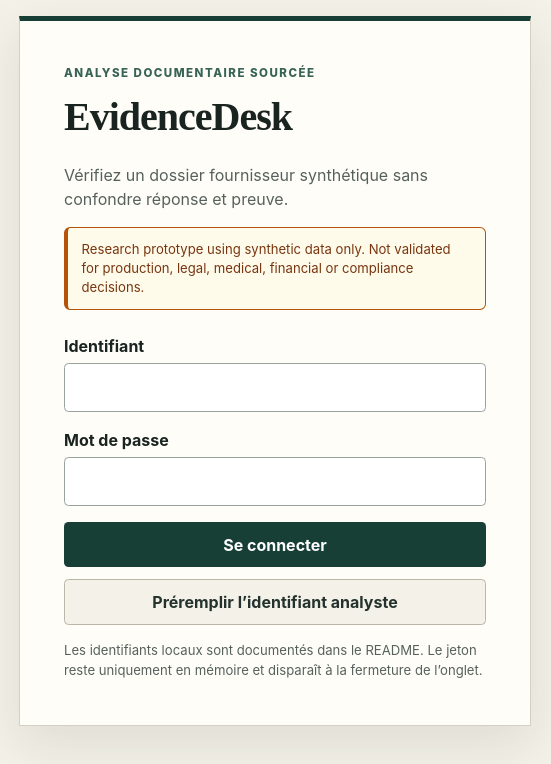
Test: EvidenceDesk REST flow › shows the research warning and never prefills a browser password
Check: the text "Research prototype using synthetic data only. Not validated for production, legal, medical, financial or compliance deci" is shown, box left=82, top=241, right=451, bottom=295
Click the button "Préremplir l’identifiant analyste". click: (275, 602)
box: left=64, top=580, right=486, bottom=625
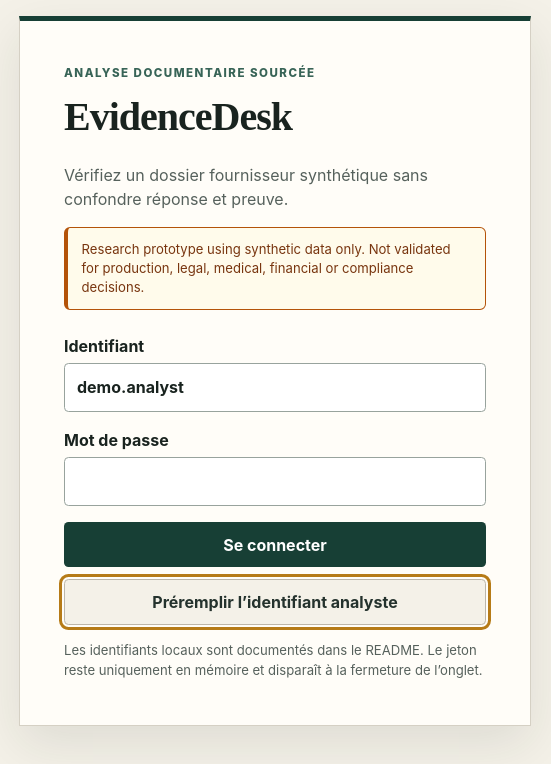
Check: the password field labelled "Mot de passe" is empty, box left=64, top=457, right=486, bottom=506
Check: the field labelled "Identifiant" holds "demo.analyst", box left=64, top=363, right=486, bottom=412
